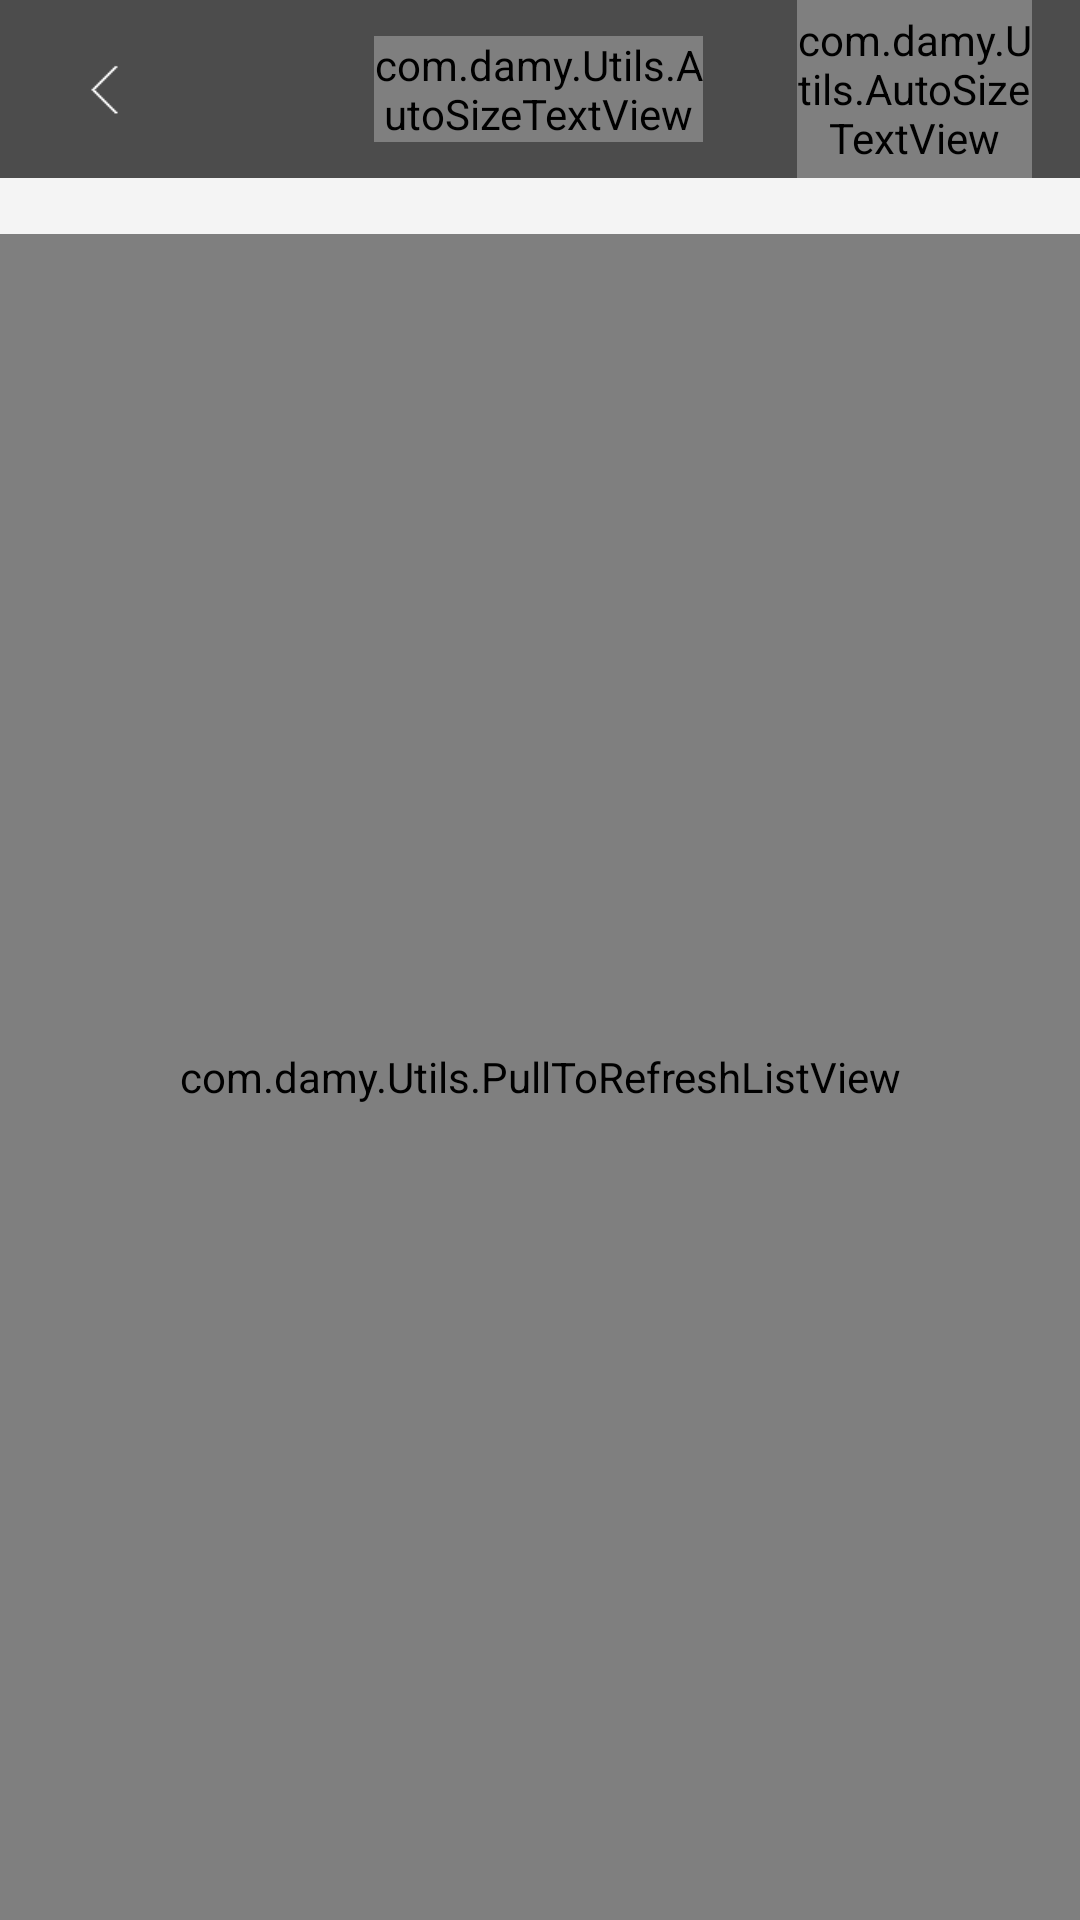

Named icons in this screenshot (1080x1920) and their centers, (x=x, y=y):
back: (x=104, y=90)
